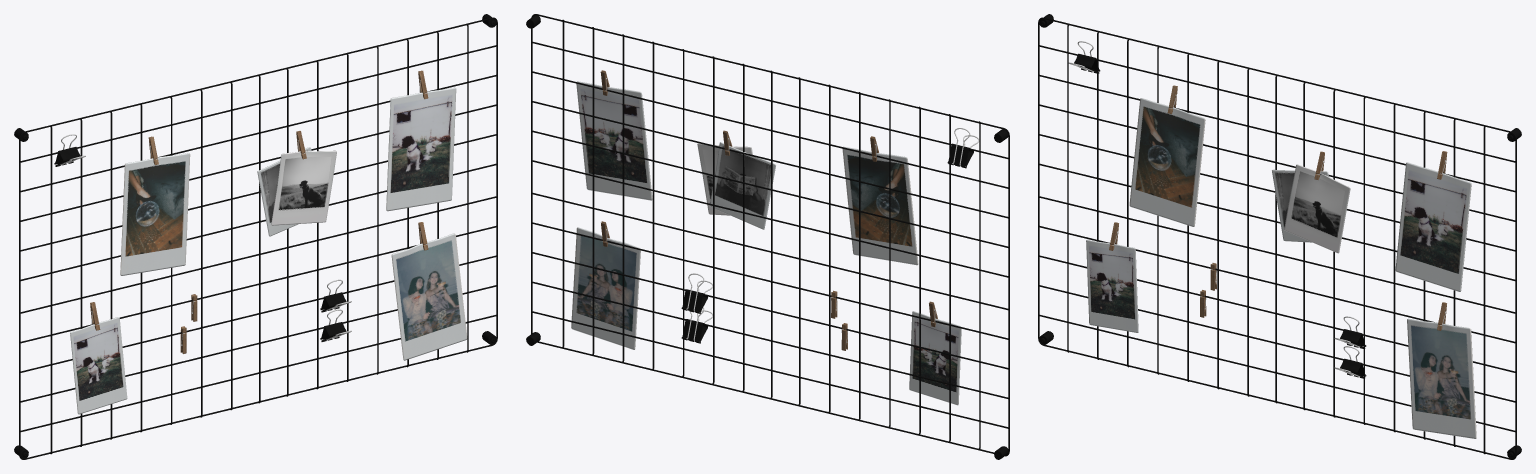
Rendered from office_decor_memory_board.glb.
The picture shows the model from 3 angles, left to right: view 1: azimuth 30°, elevation 25°; view 2: azimuth 150°, elevation 25°; view 3: azimuth 330°, elevation 25°; orthographic projection.
Visible parts, largest first — view 1: Office_Decor_Memory-Board_01_0; view 2: Office_Decor_Memory-Board_01_0; view 3: Office_Decor_Memory-Board_01_0.
Boxes of the visible parts, <box> form: Office_Decor_Memory-Board_01_0: <box>14,14,497,459</box>; Office_Decor_Memory-Board_01_0: <box>526,14,1009,459</box>; Office_Decor_Memory-Board_01_0: <box>1038,14,1521,459</box>.
Size of the model in its own units: 0.6961 by 0.4565 by 0.0468.
8 materials, 7 textured.
